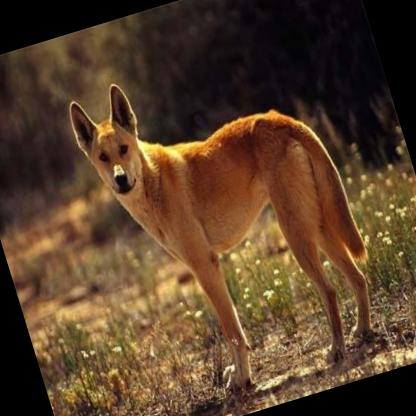dingo: (59, 23, 393, 414)
